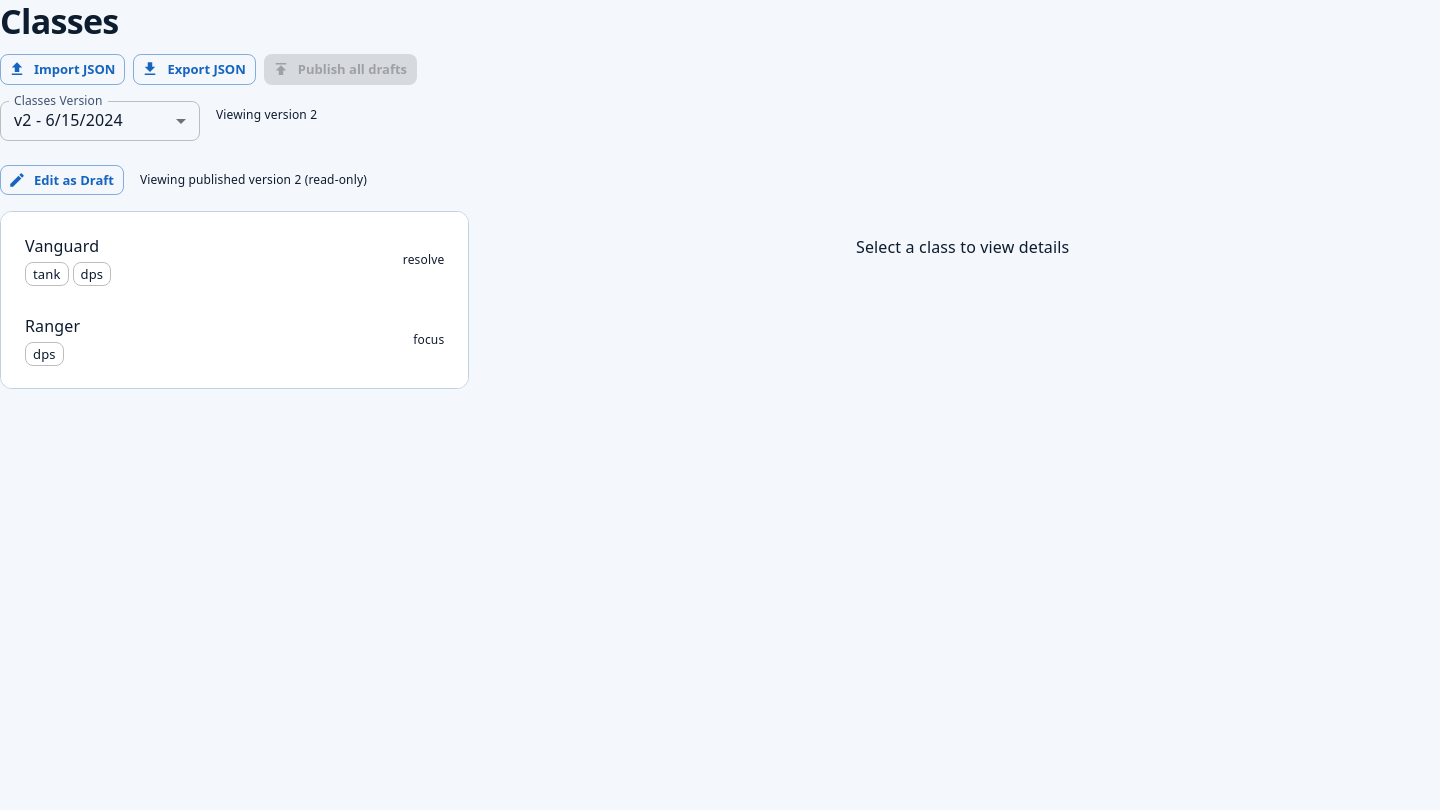
Test: Delete catalog draft entries (MMO-41) › requires confirmation before deleting an entry without dependents
The image size is (1440, 810).
Click the dropdown at point(68, 120), box left=14, top=109, right=123, bottom=131
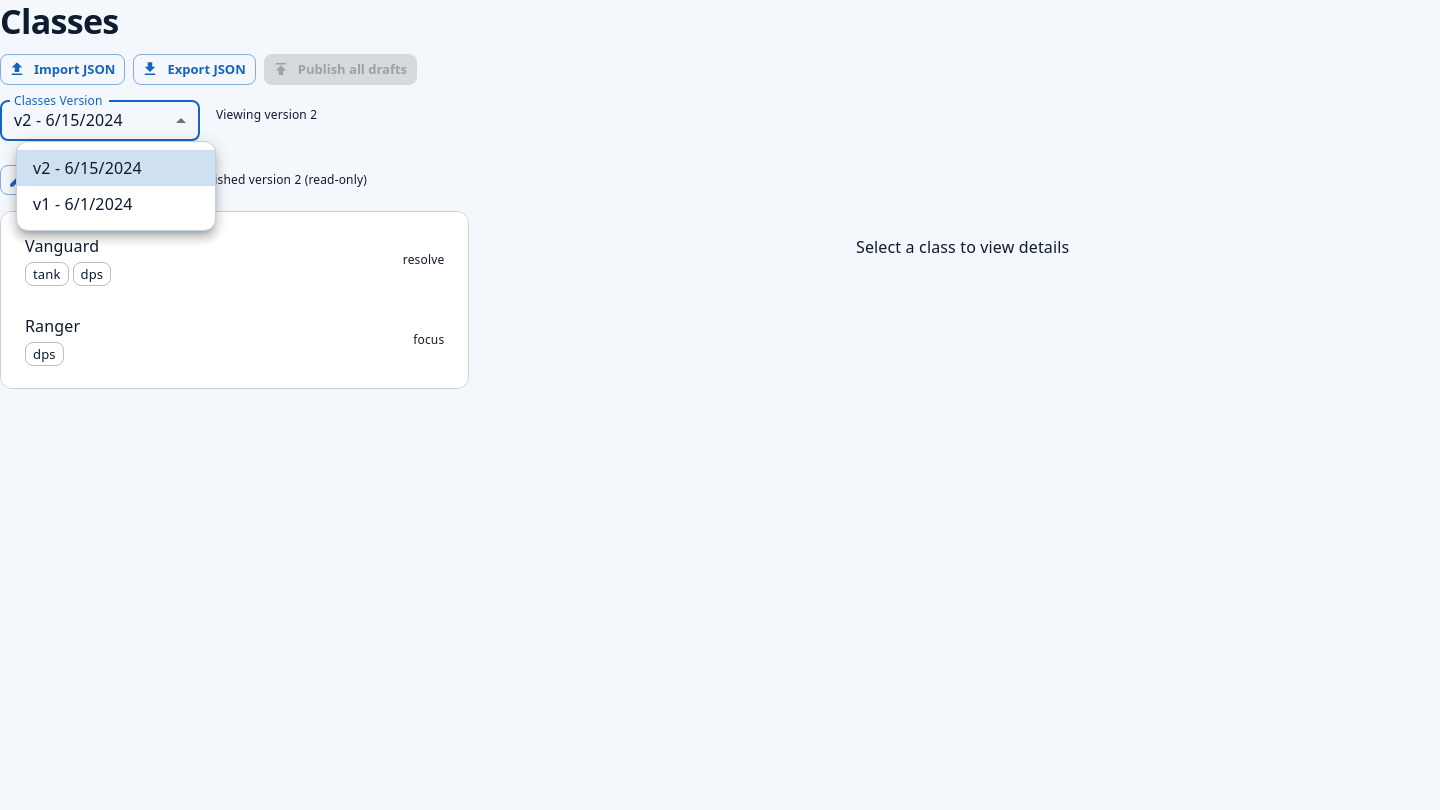
Click the option "v2 - 6/15/2024" at point(116, 168), box left=17, top=150, right=215, bottom=186
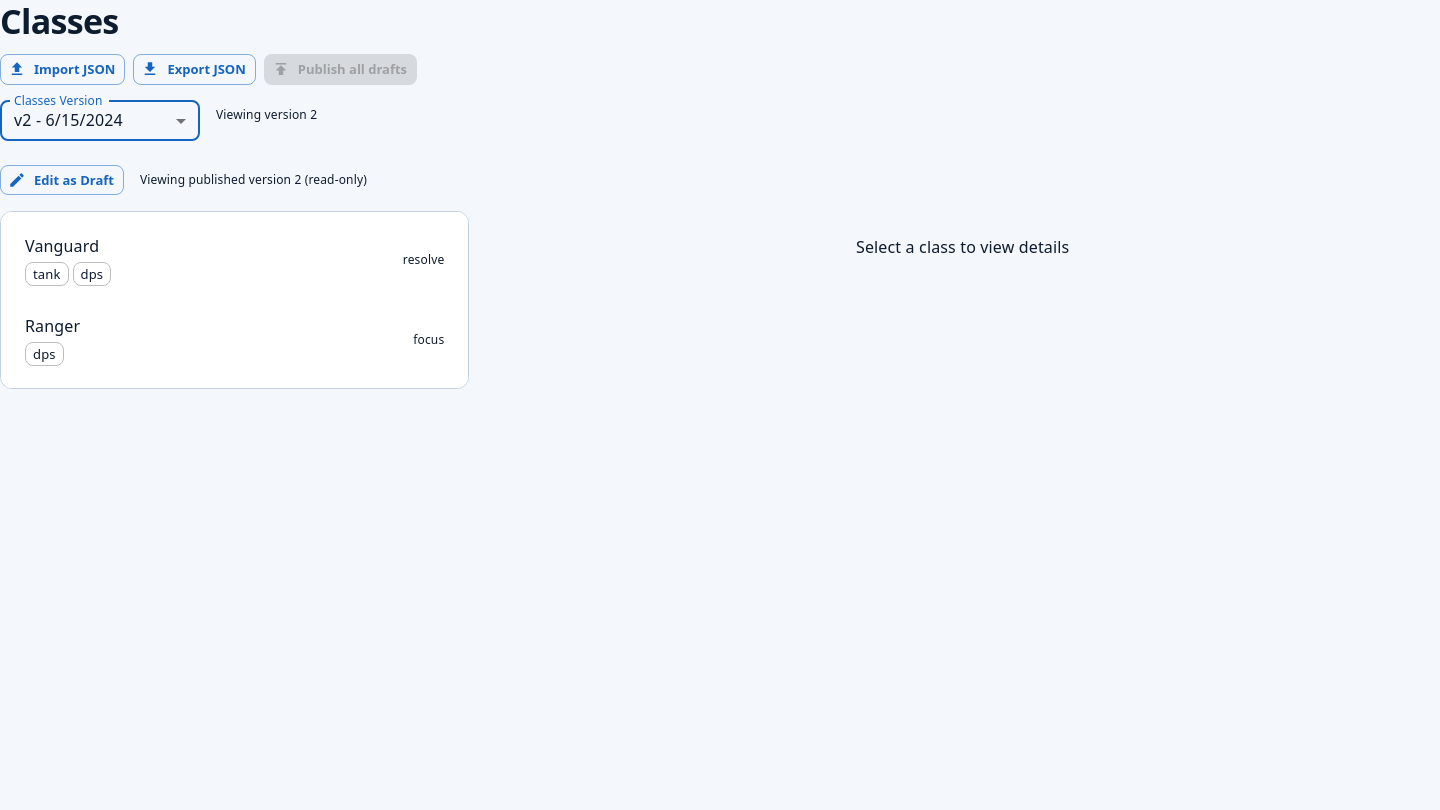
Expected: the text "Vanguard" is shown, left=25, top=235, right=99, bottom=257
Click the button "Edit as Draft" at point(62, 180), box left=0, top=165, right=124, bottom=195
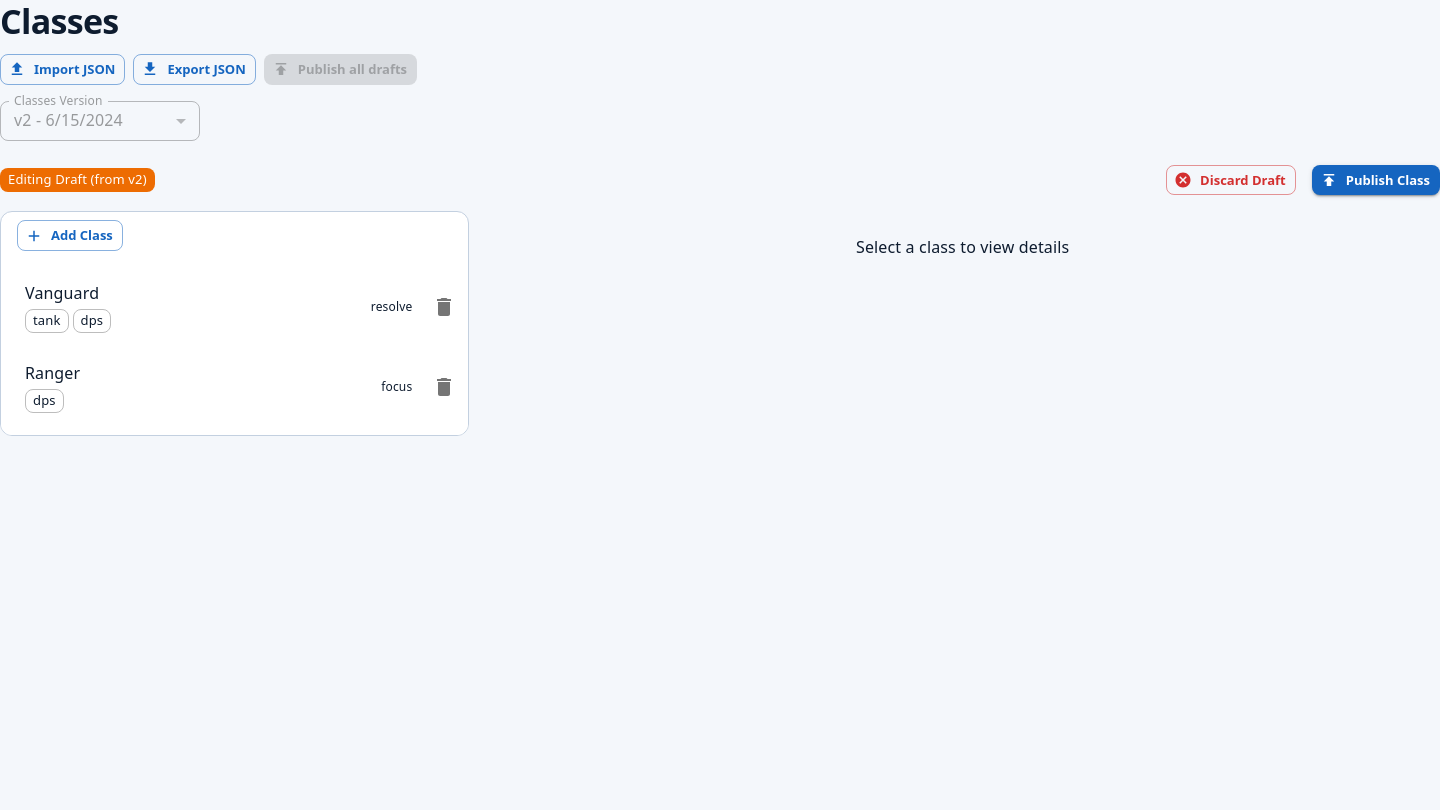
Result: the text "Editing Draft (from v2)" is shown at left=0, top=170, right=155, bottom=190
Click the button named "delete ranger" at point(444, 387), box left=424, top=367, right=464, bottom=407
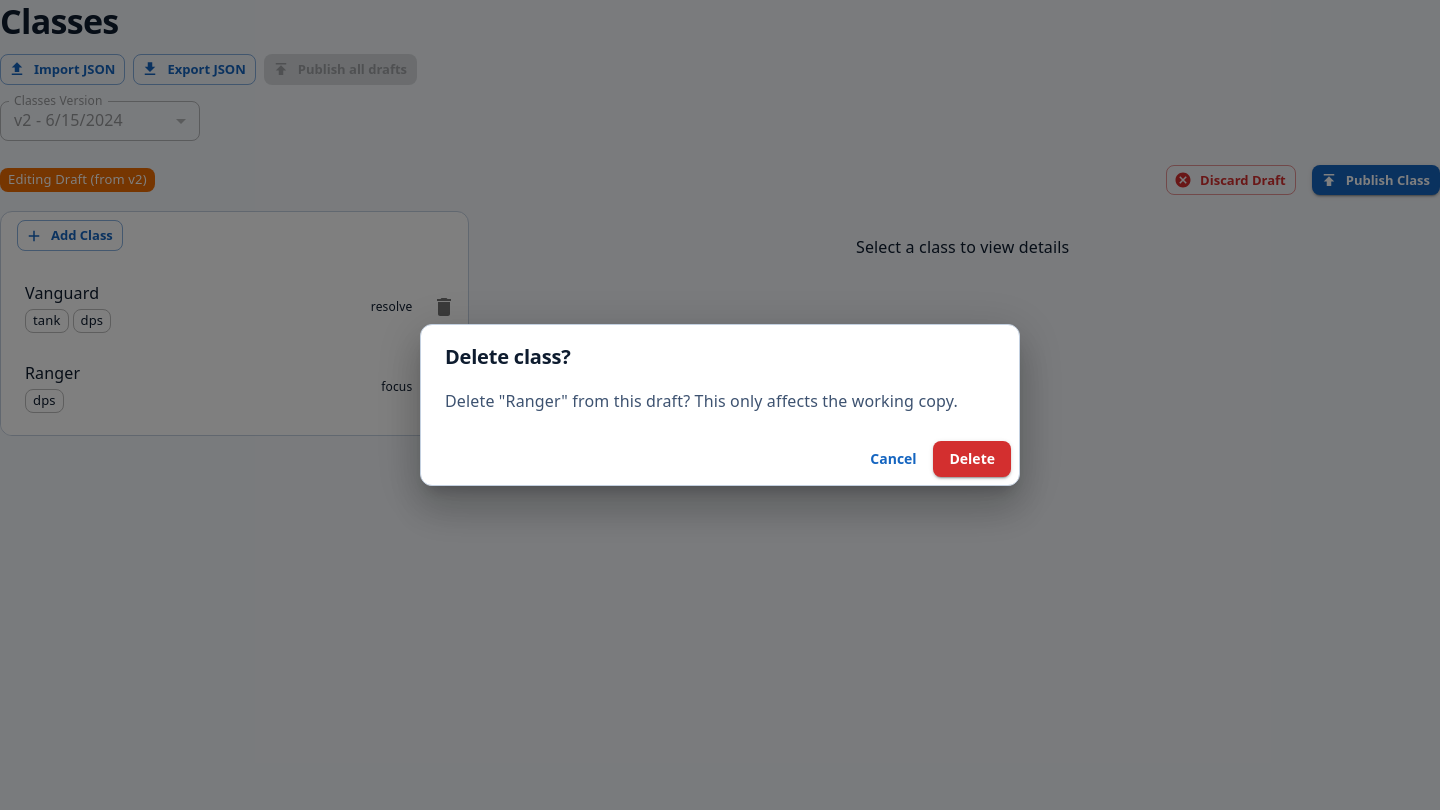
Result: the dialog "Delete class" is shown at left=420, top=324, right=1020, bottom=486
Result: the text "only affects the working copy" is shown at left=445, top=390, right=958, bottom=412
Click the button "Cancel" at point(894, 459), box left=862, top=441, right=926, bottom=477
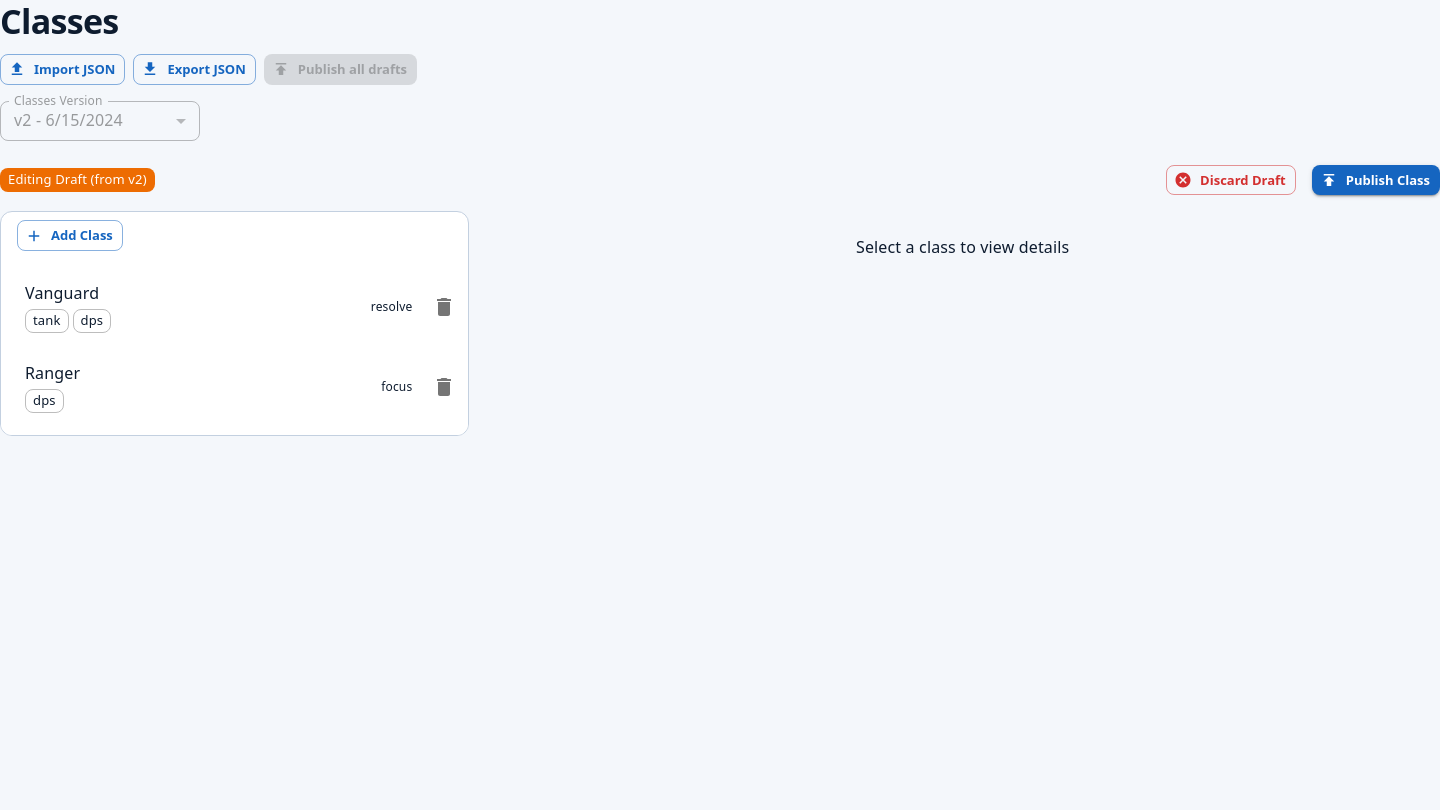
Expected: the text "Ranger" is shown, left=25, top=362, right=80, bottom=384
Result: the heading "Delete class" is gone
